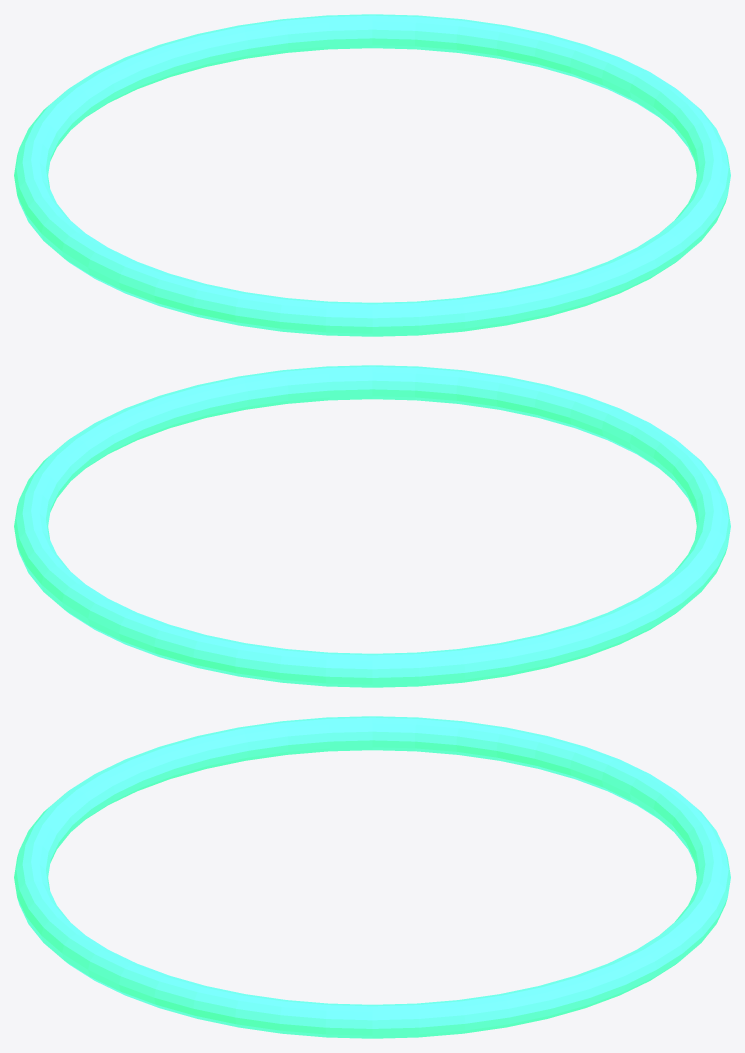
File: spawn_circle_lev5.glb
3 renders of one model, top to bottom at view 1: azimuth 30°, elevation 25°; view 2: azimuth 150°, elevation 25°; view 3: azimuth 270°, elevation 25°, orthographic.
Parts seen in each view (by area): view 1: spawn_circle_lev5; view 2: spawn_circle_lev5; view 3: spawn_circle_lev5.
Boxes of the visible parts, <box> form: spawn_circle_lev5: <box>14,14,730,336</box>; spawn_circle_lev5: <box>14,365,730,687</box>; spawn_circle_lev5: <box>14,716,730,1038</box>.
Size of the model in its own units: 3.36 by 0.16 by 3.36.
